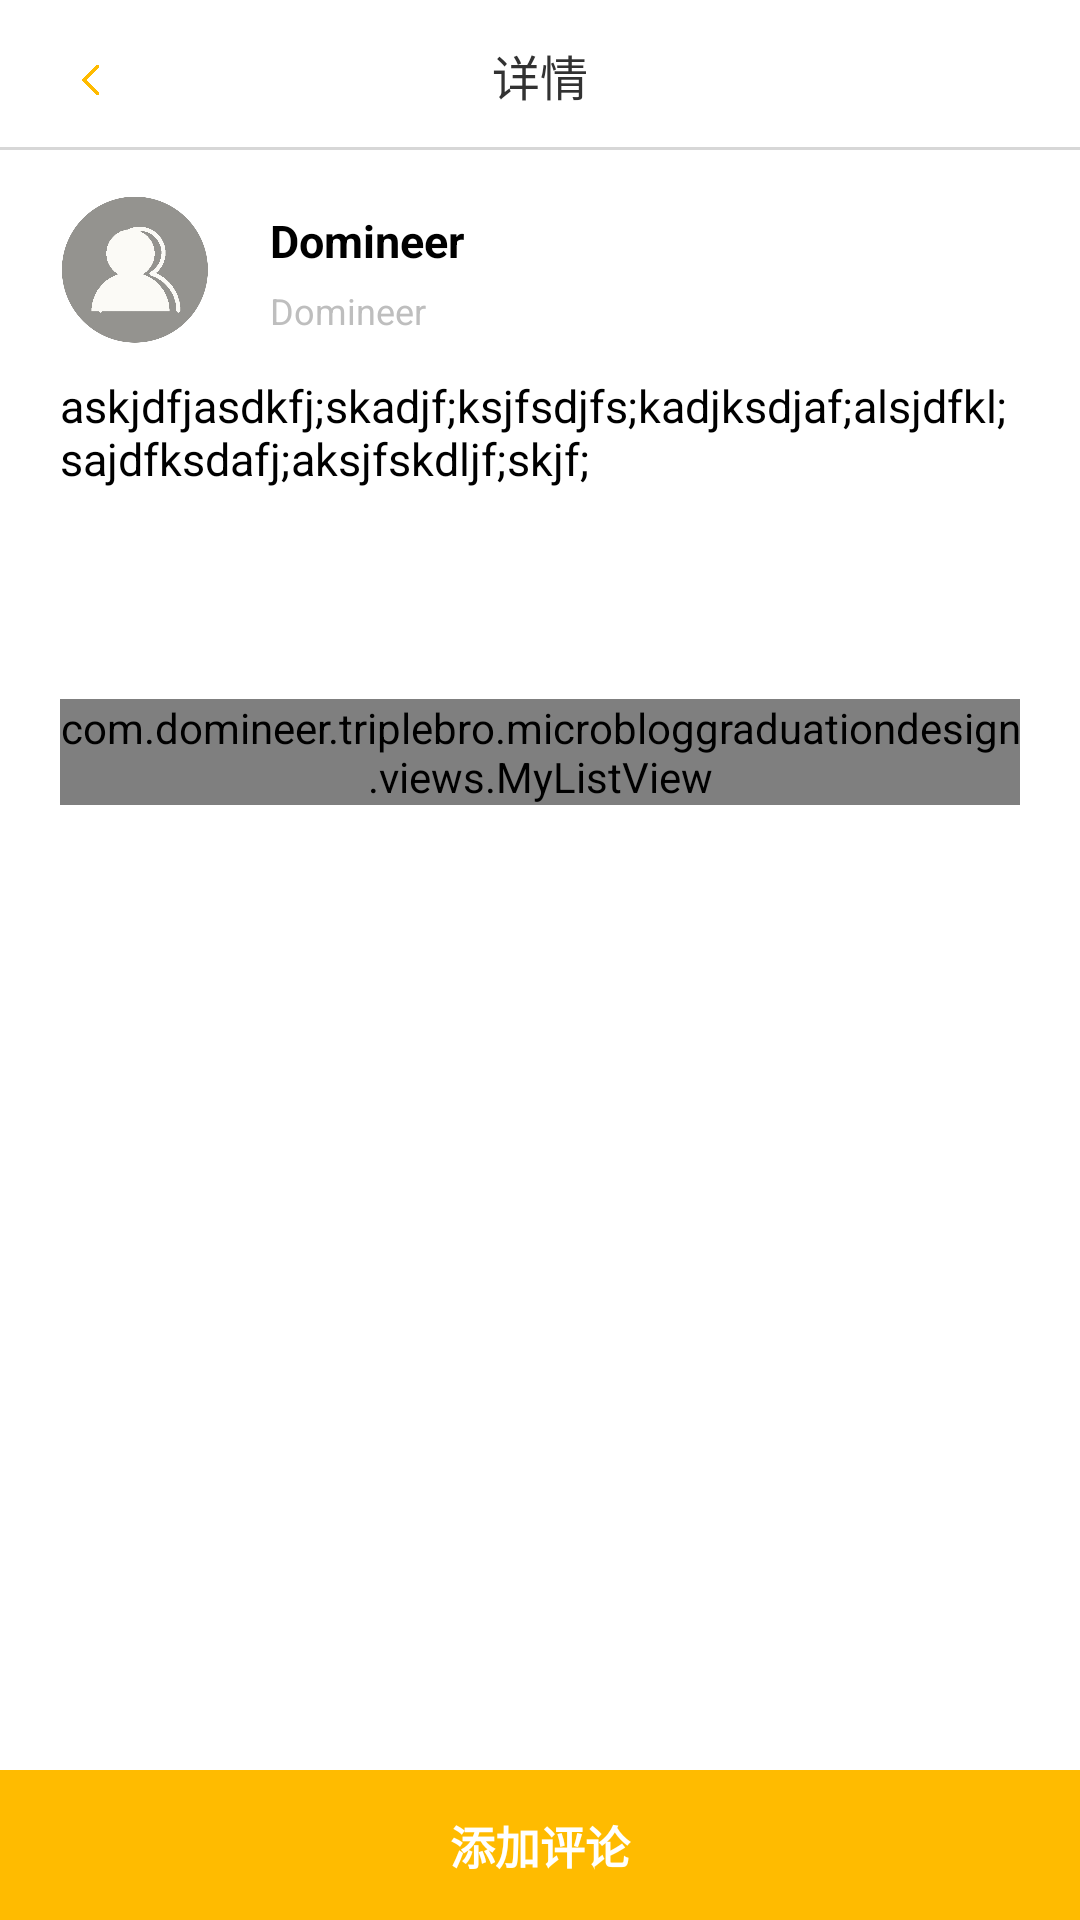

Named icons in this screenshot (1080px×1920px) and their centers, (x,y):
back: (90,80)
user head: (135,270)
